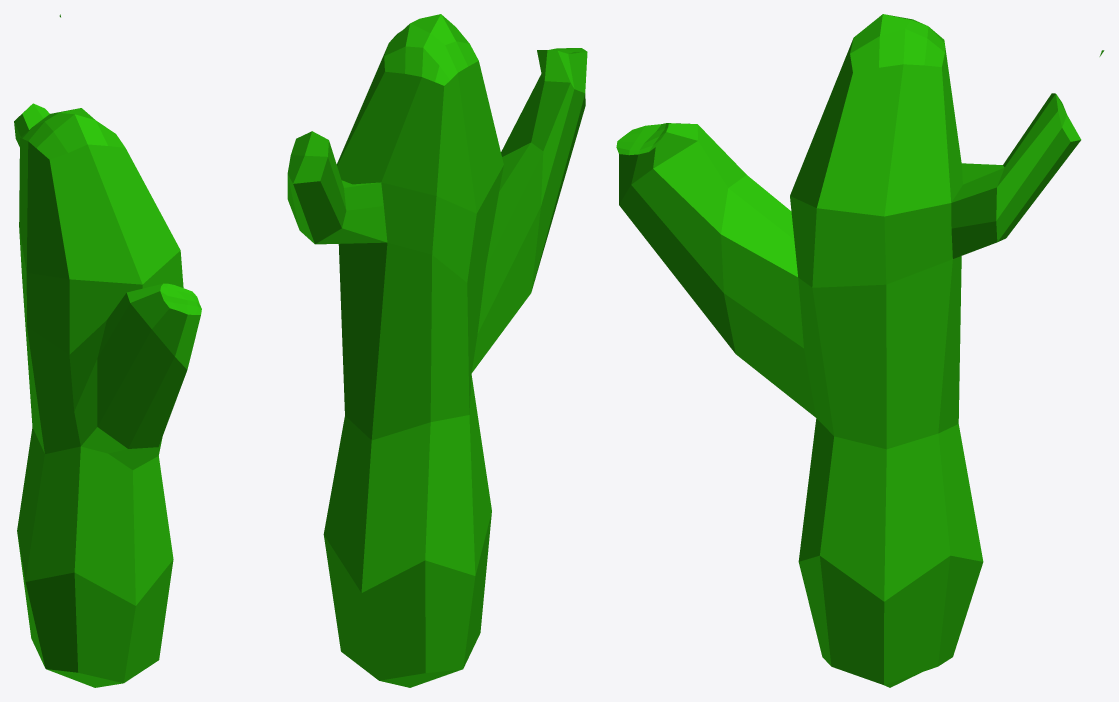
Rendered from cactus2.gltf.
The picture shows the model from 3 angles, left to right: view 1: azimuth 30°, elevation 25°; view 2: azimuth 150°, elevation 25°; view 3: azimuth 270°, elevation 25°; orthographic projection. The views are drawn at different scales.
Visible parts, largest first — view 1: Cube.001; view 2: Cube.001; view 3: Cube.001.
Part boxes in pixels (x1,y1,x2,y2): Cube.001: [14, 14, 201, 687]; Cube.001: [287, 14, 587, 687]; Cube.001: [616, 14, 1104, 687].
Bounding box in the file's own units: 2.34 × 10.1 × 6.66.
